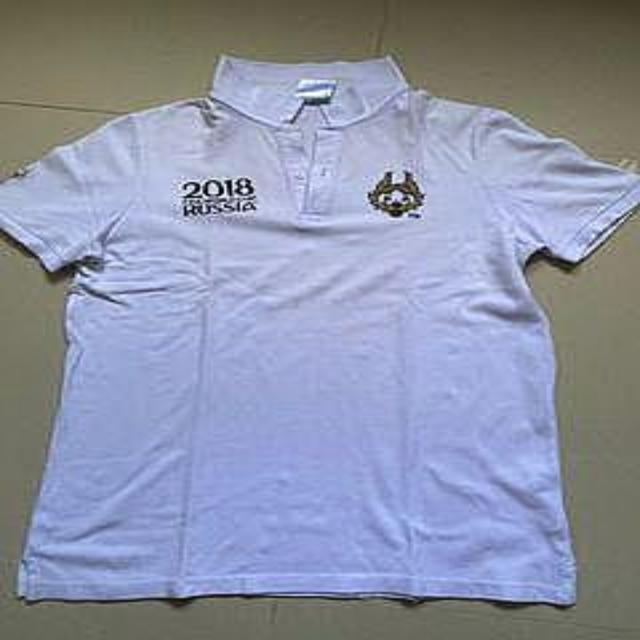T_SHIRT: (0, 49, 640, 614)
